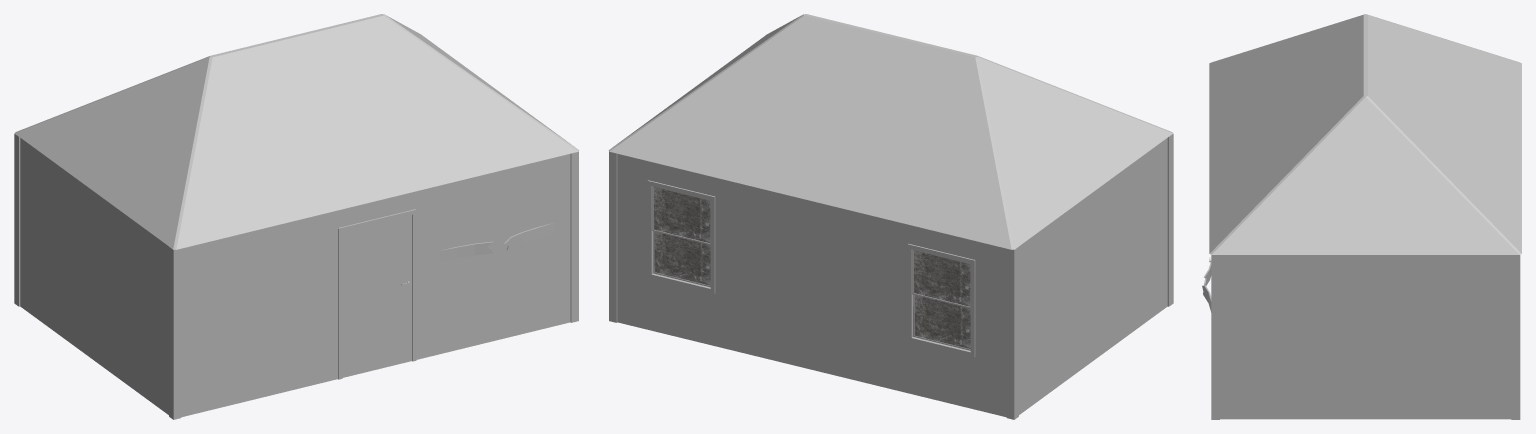
The model's file is Suburbs_shed2.fbx.
3 views of the same model, side by side, from view 1: azimuth 30°, elevation 25°; view 2: azimuth 150°, elevation 25°; view 3: azimuth 270°, elevation 25° (orthographic). The views are drawn at different scales.
Parts seen in each view (by area): view 1: SmallHouse1.021, Cube.1432, Cube.1810; view 2: SmallHouse1.021, Cube.1432, Plane.632, Plane.639, Plane.635, Plane.636; view 3: Cube.1432, SmallHouse1.021.
Part boxes in pixels (x1,y1,x2,y2): SmallHouse1.021: [14, 133, 578, 419]; Cube.1432: [15, 14, 579, 249]; Cube.1810: [342, 215, 411, 376]; SmallHouse1.021: [609, 133, 1173, 419]; Cube.1432: [608, 14, 1172, 249]; Plane.632: [914, 250, 970, 306]; Plane.639: [654, 187, 710, 242]; Plane.635: [914, 295, 970, 348]; Plane.636: [654, 231, 710, 285]; Cube.1432: [1209, 14, 1521, 254]; SmallHouse1.021: [1202, 255, 1520, 419].
Bounding box in the file's own units: 625 × 407 × 439.
